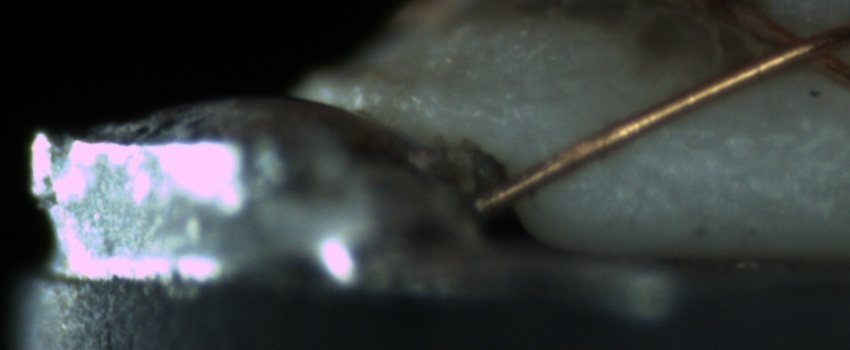CL: (741, 13, 843, 82)
DL: (628, 113, 847, 161)
